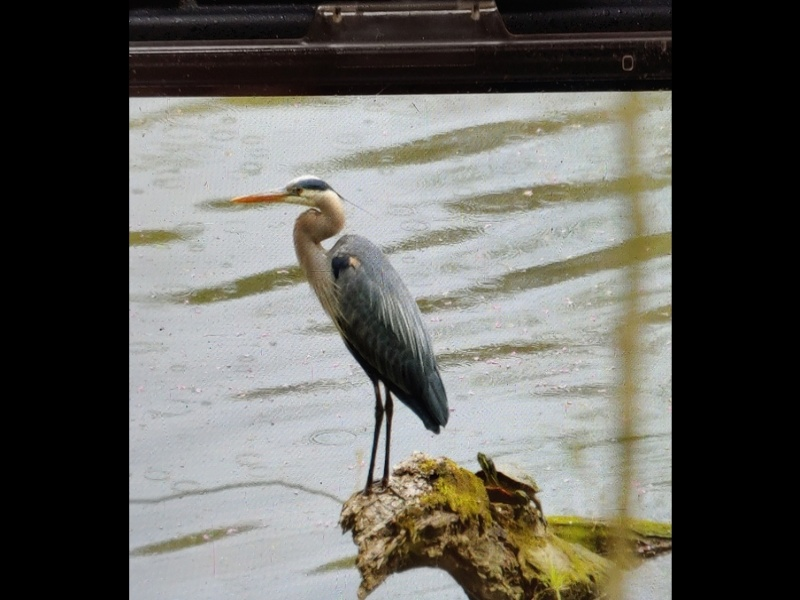heron: (228, 175, 452, 508)
